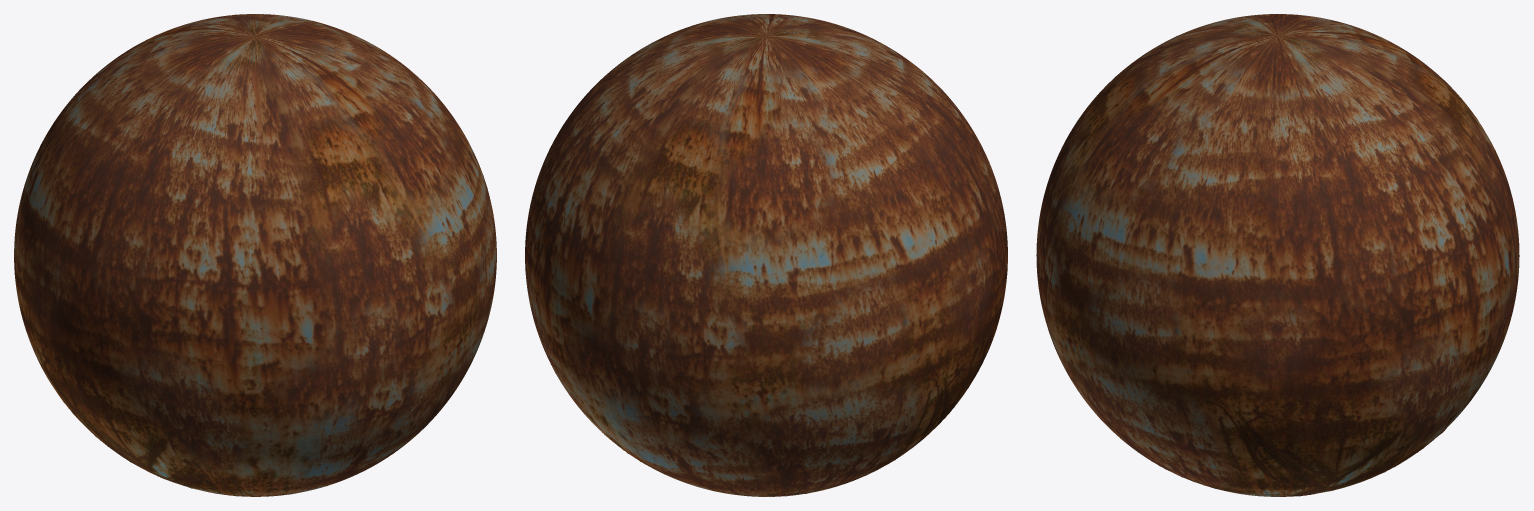
The model's file is rusty_metal_05_1k.gltf.
3 renders of one model, left to right at view 1: azimuth 30°, elevation 25°; view 2: azimuth 150°, elevation 25°; view 3: azimuth 270°, elevation 25°, orthographic.
Visible parts, largest first — view 1: sphere_gltf; view 2: sphere_gltf; view 3: sphere_gltf.
Part boxes in pixels (box(x1,y1,x2,y2)): sphere_gltf: box(14, 14, 496, 496); sphere_gltf: box(525, 14, 1007, 496); sphere_gltf: box(1036, 14, 1519, 496).
Bounding box in the file's own units: 1.25 × 1.25 × 1.25.
Materials: 1 (1 with a texture image).
